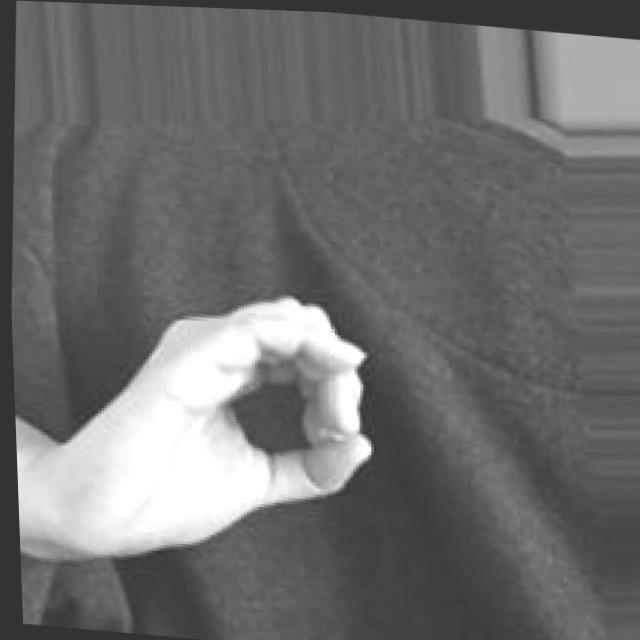O: (9, 256, 399, 592)
